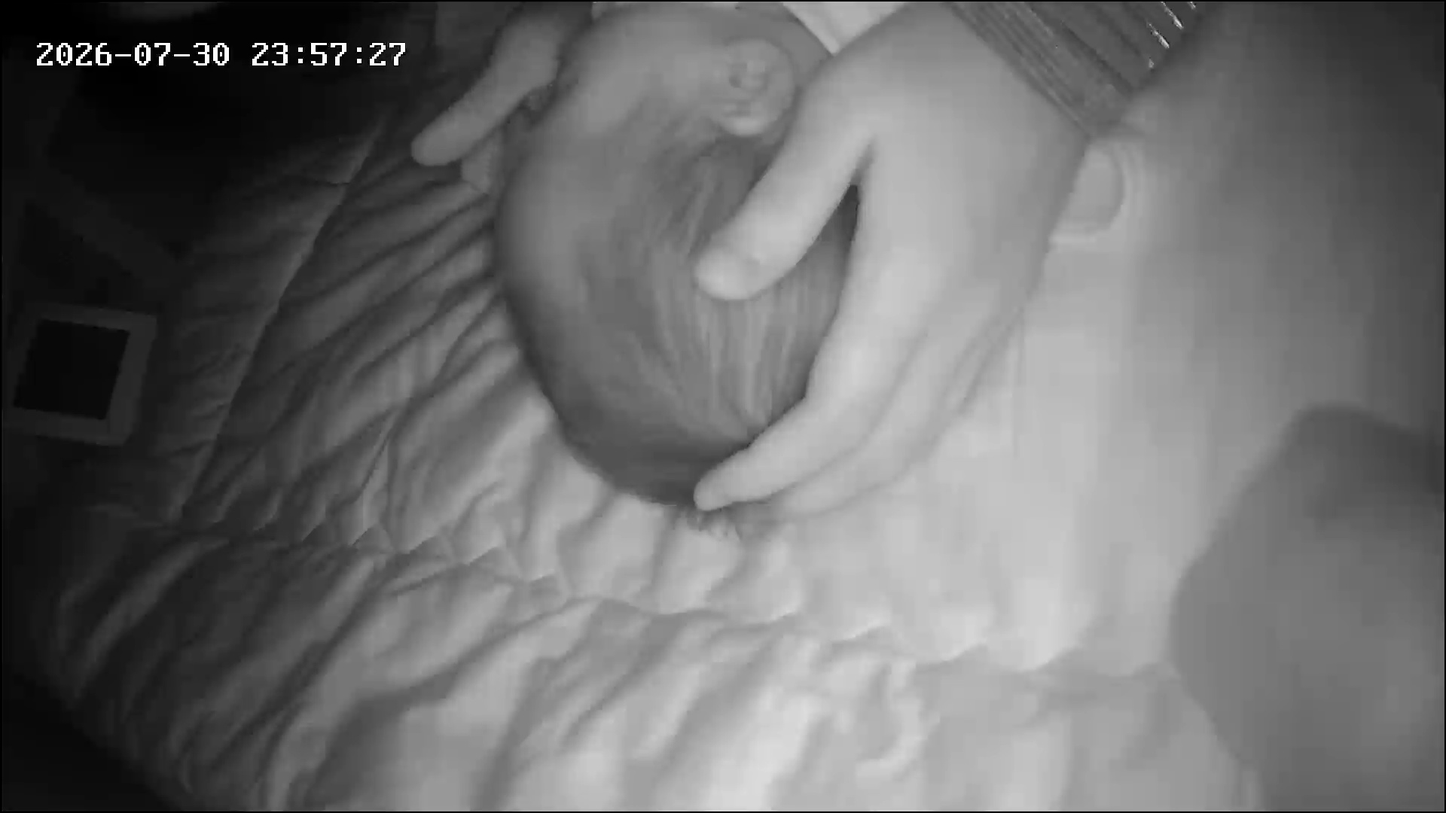baby_face: (478, 3, 858, 491)
